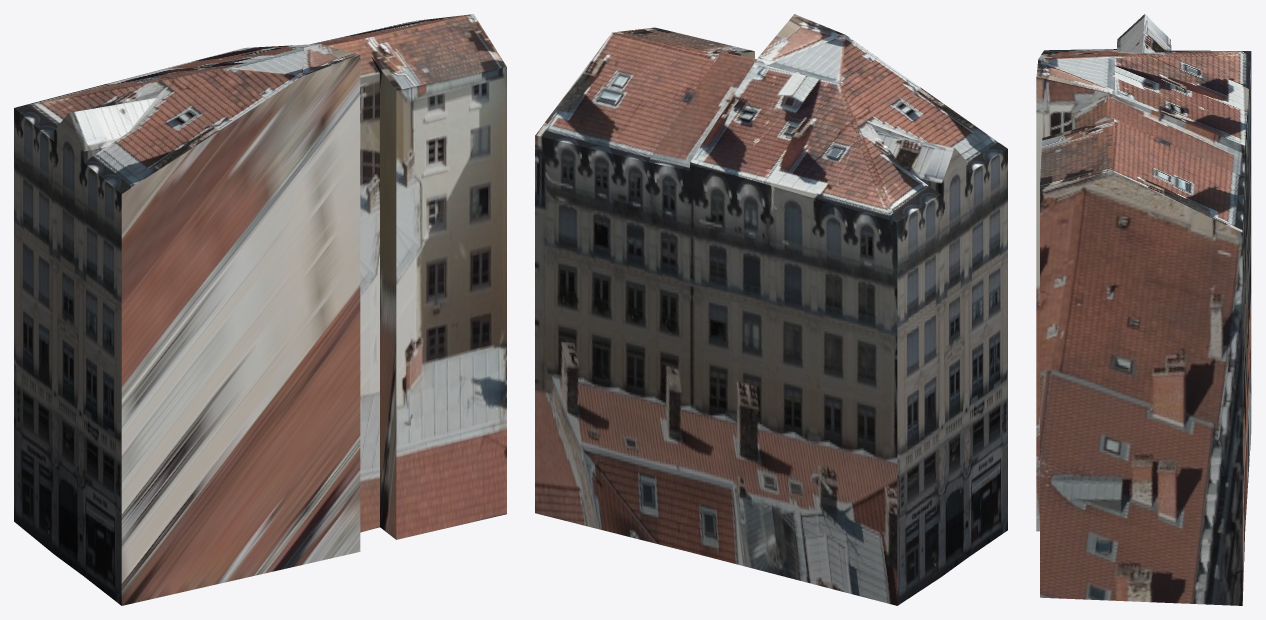
3 views of the same model, side by side, from view 1: azimuth 30°, elevation 25°; view 2: azimuth 150°, elevation 25°; view 3: azimuth 270°, elevation 25° (orthographic). The views are drawn at different scales.
Visible parts, largest first — view 1: Z_UP; view 2: Z_UP; view 3: Z_UP.
Boxes of the visible parts, x1,y1,x2,y2 form: Z_UP: [14, 14, 506, 605]; Z_UP: [535, 14, 1007, 605]; Z_UP: [1036, 14, 1251, 605].
Size of the model in its own units: 25.3 by 29.92 by 12.83.
Materials: 2 (1 with a texture image).
